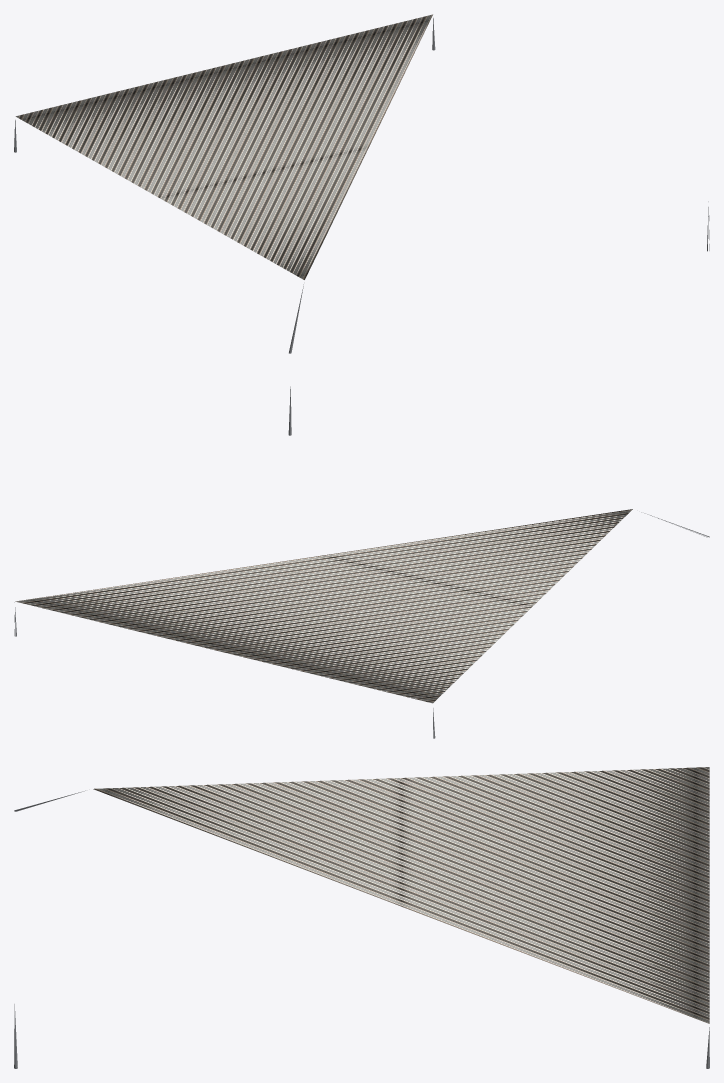
Rendered from KibuiShed_LOD3.gltf.
3 views of the same model, one above another, from view 1: azimuth 30°, elevation 25°; view 2: azimuth 150°, elevation 25°; view 3: azimuth 270°, elevation 25° (orthographic). The views are drawn at different scales.
Visible parts, largest first — view 1: node7; view 2: node7; view 3: node7.
Part boxes in pixels (x1,y1,x2,y2): node7: (15, 14, 432, 279); node7: (15, 509, 632, 703); node7: (93, 767, 709, 1023).
Bounding box in the file's own units: 22.04 × 2.62 × 25.04.
